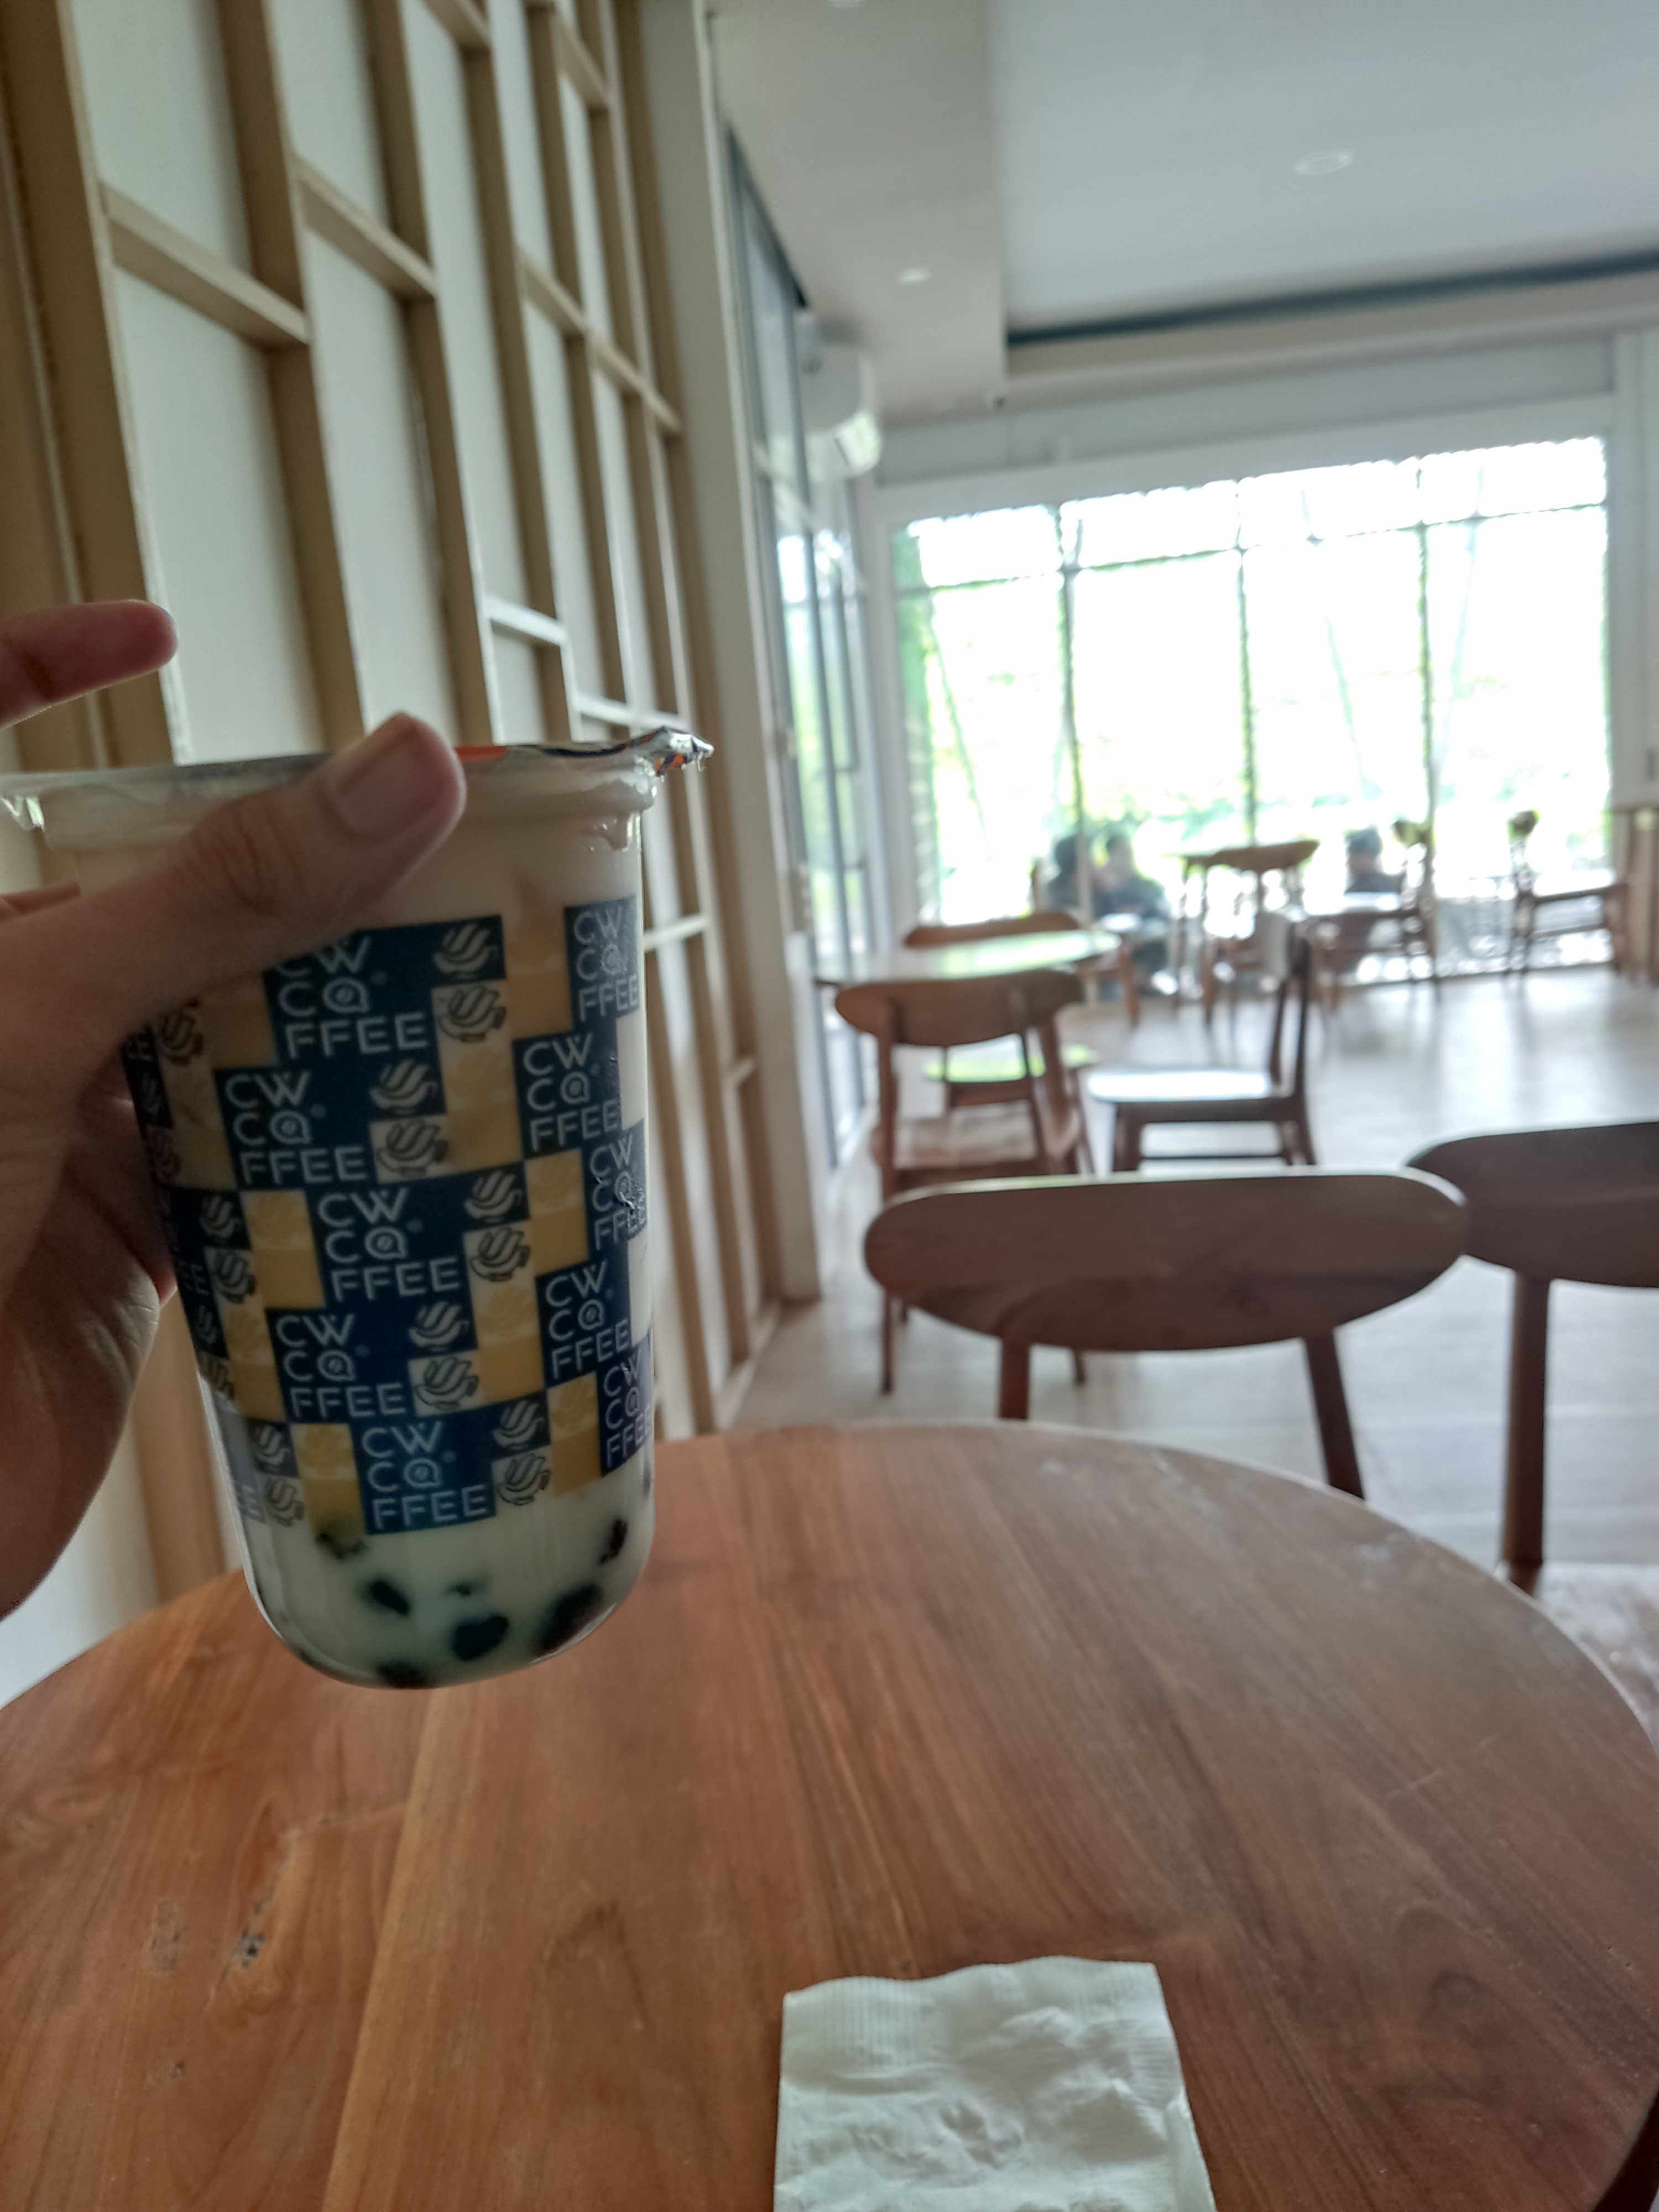Gelas CW: (3, 728, 728, 1681)
